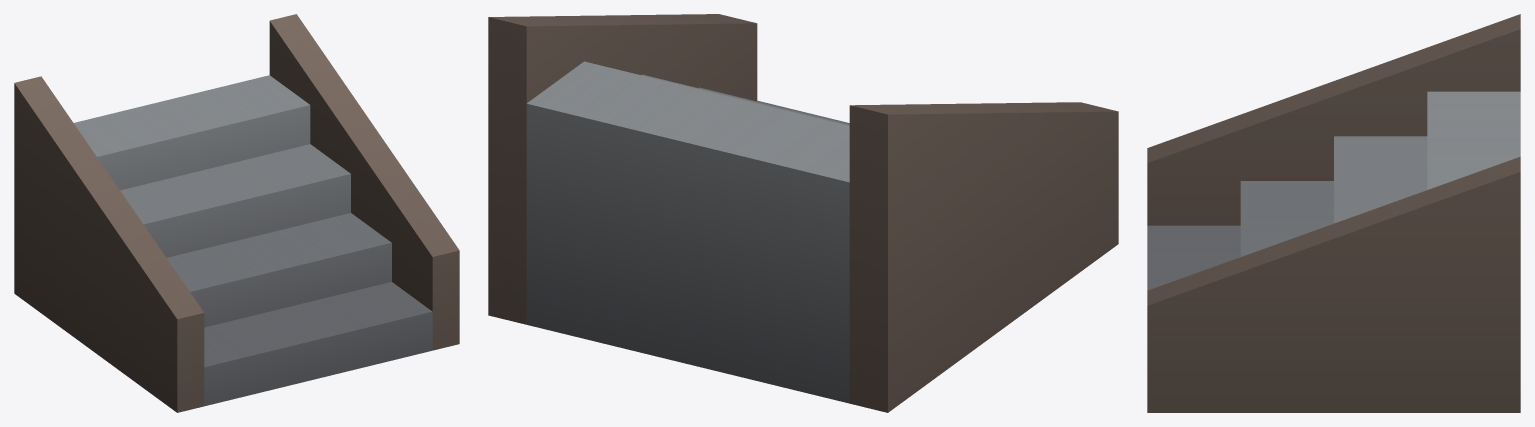
Rendered from SM_Stairs_Brick.fbx.
3 views of the same model, side by side, from view 1: azimuth 30°, elevation 25°; view 2: azimuth 150°, elevation 25°; view 3: azimuth 270°, elevation 25° (orthographic). The views are drawn at different scales.
Parts seen in each view (by area): view 1: Stairs_Brick; view 2: Stairs_Brick; view 3: Stairs_Brick.
Boxes of the visible parts, x1,y1,x2,y2 form: Stairs_Brick: [14, 14, 459, 412]; Stairs_Brick: [488, 14, 1118, 412]; Stairs_Brick: [1147, 14, 1520, 412].
Bounding box in the file's own units: 200 × 143 × 200.
